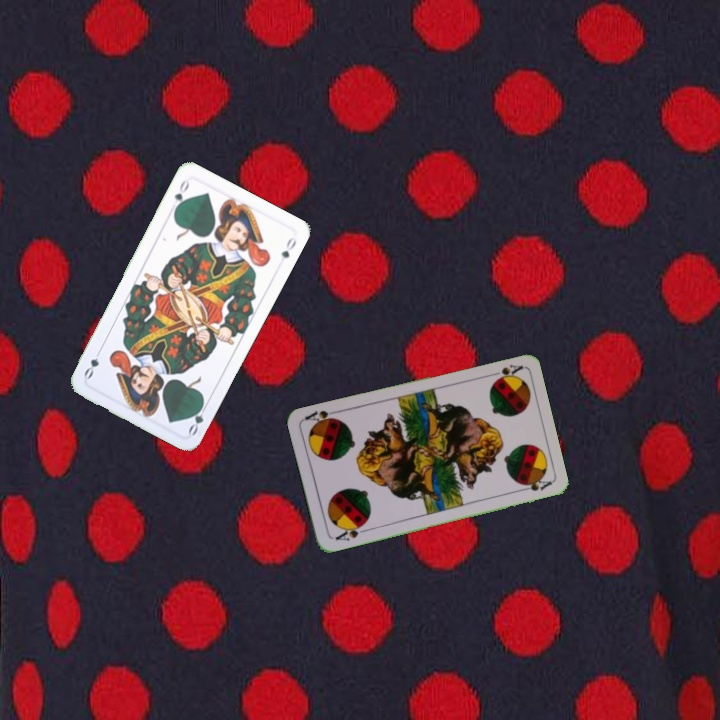GO: (184, 398, 211, 438), (170, 176, 192, 215)
SA: (484, 360, 524, 384), (331, 519, 370, 543)
